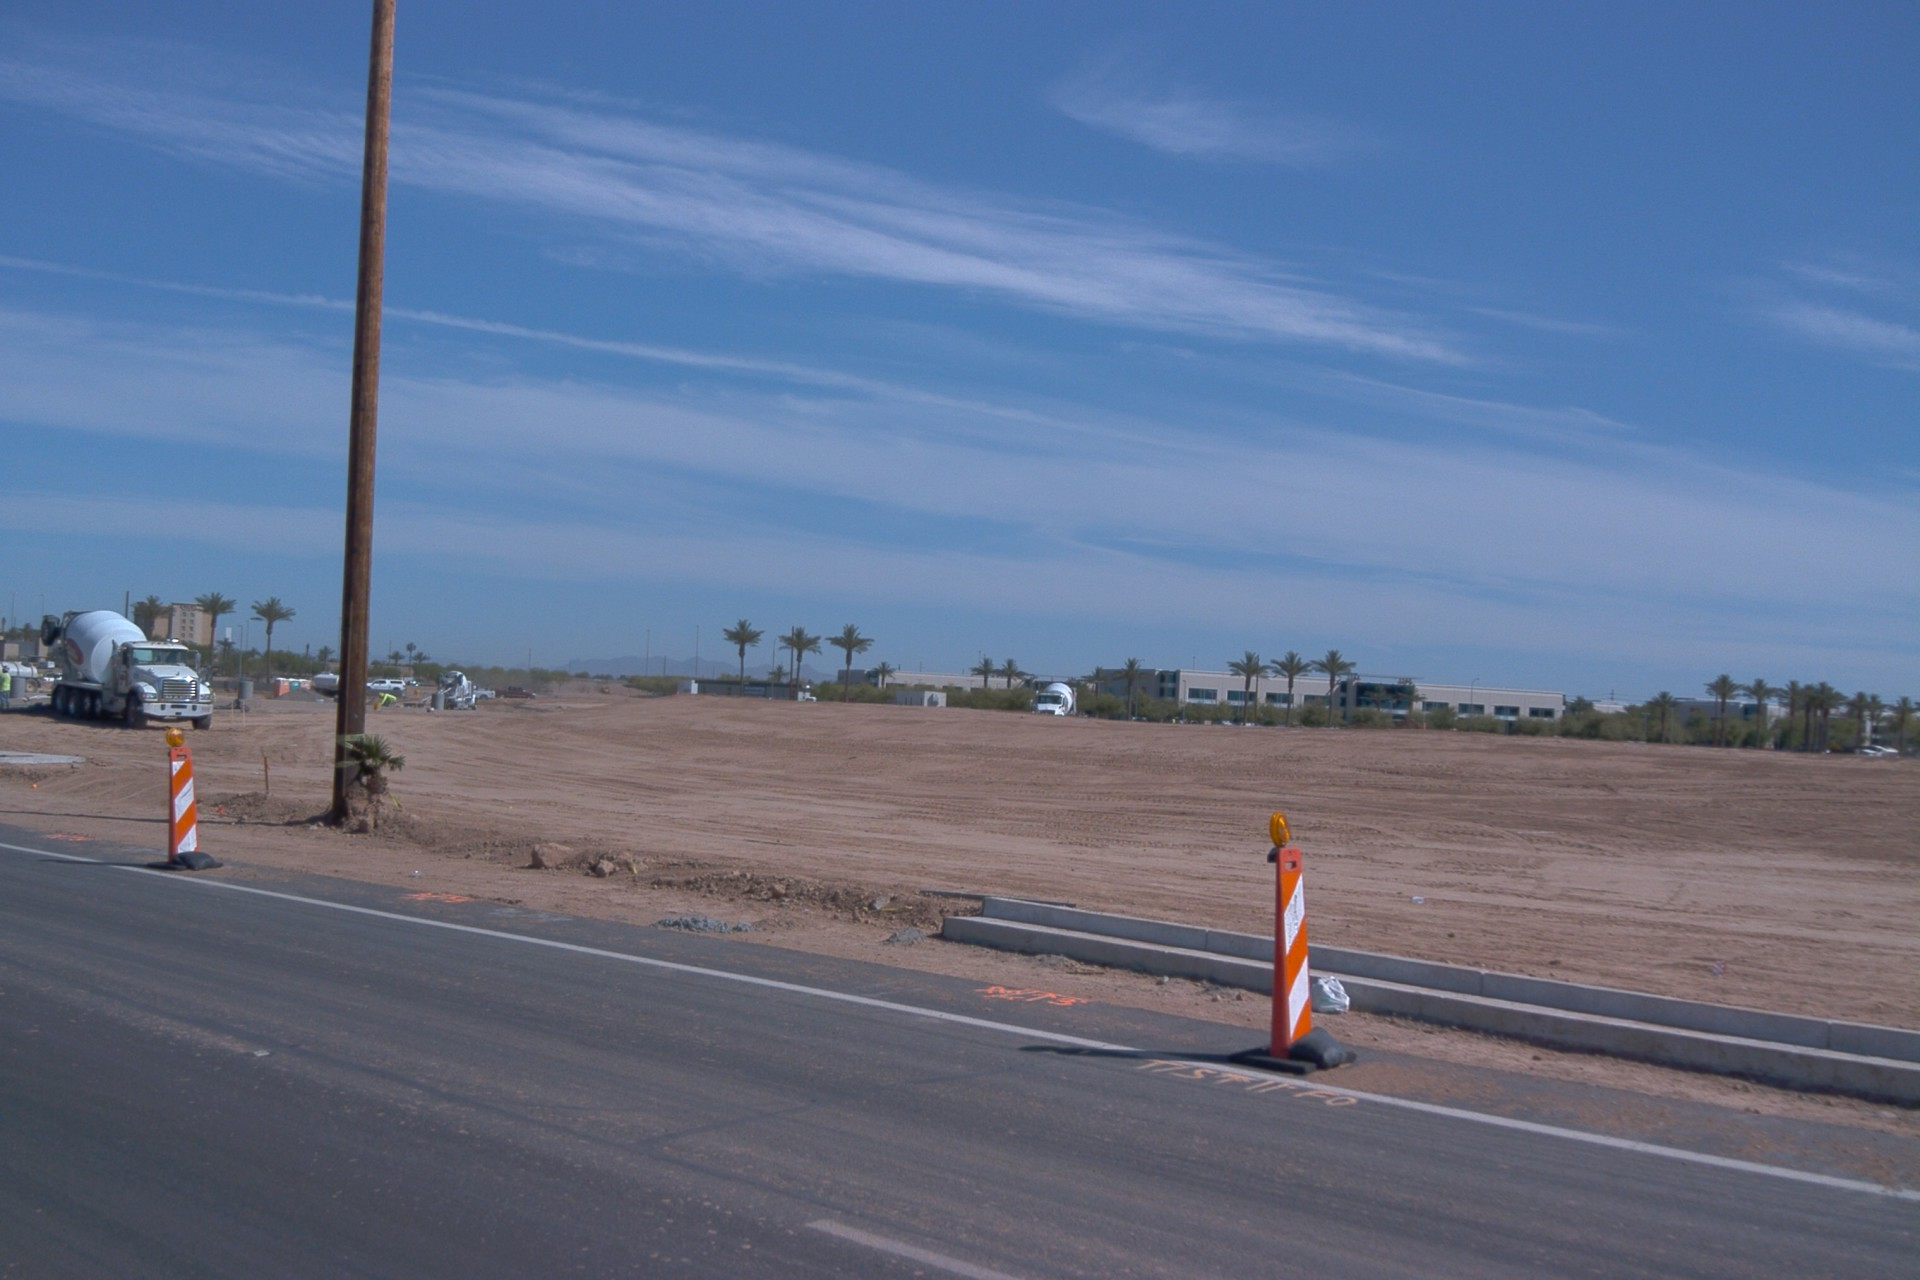TYPE_PEDESTRIAN: (0, 665, 13, 713), (375, 688, 399, 709), (203, 681, 216, 707)
TYPE_VEHICLE: (39, 611, 214, 733), (421, 668, 479, 711), (1027, 678, 1076, 719), (0, 661, 37, 698), (365, 678, 410, 697), (493, 683, 539, 701), (491, 681, 536, 699), (311, 674, 338, 699), (195, 667, 218, 693), (475, 689, 498, 703), (41, 675, 65, 684), (39, 662, 59, 669)
